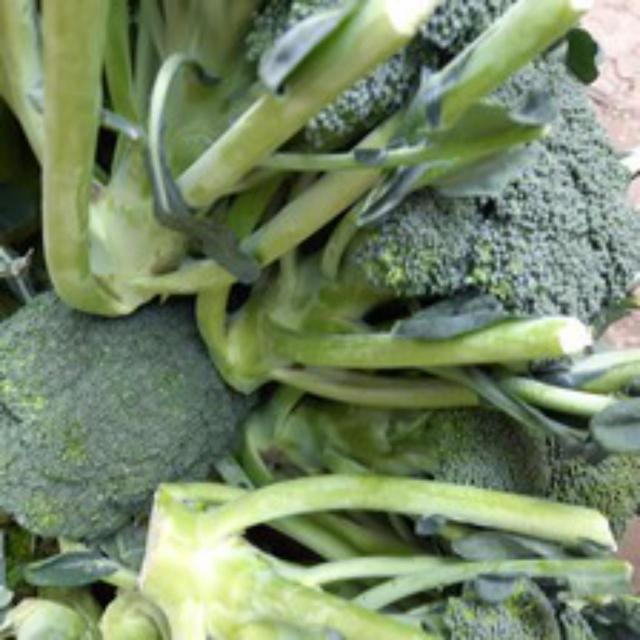broccoli: (0, 272, 274, 547)
